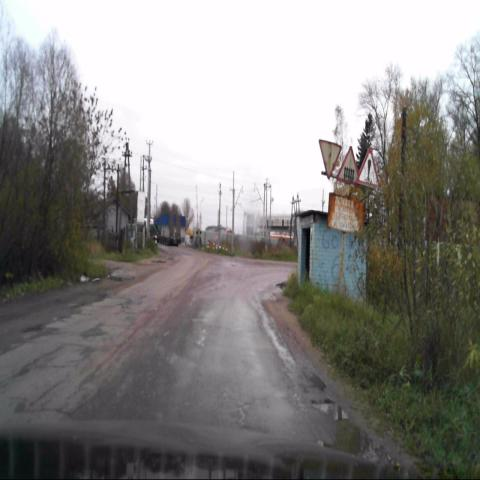1_1: (336, 145, 358, 183)
1_33: (356, 147, 379, 190)
